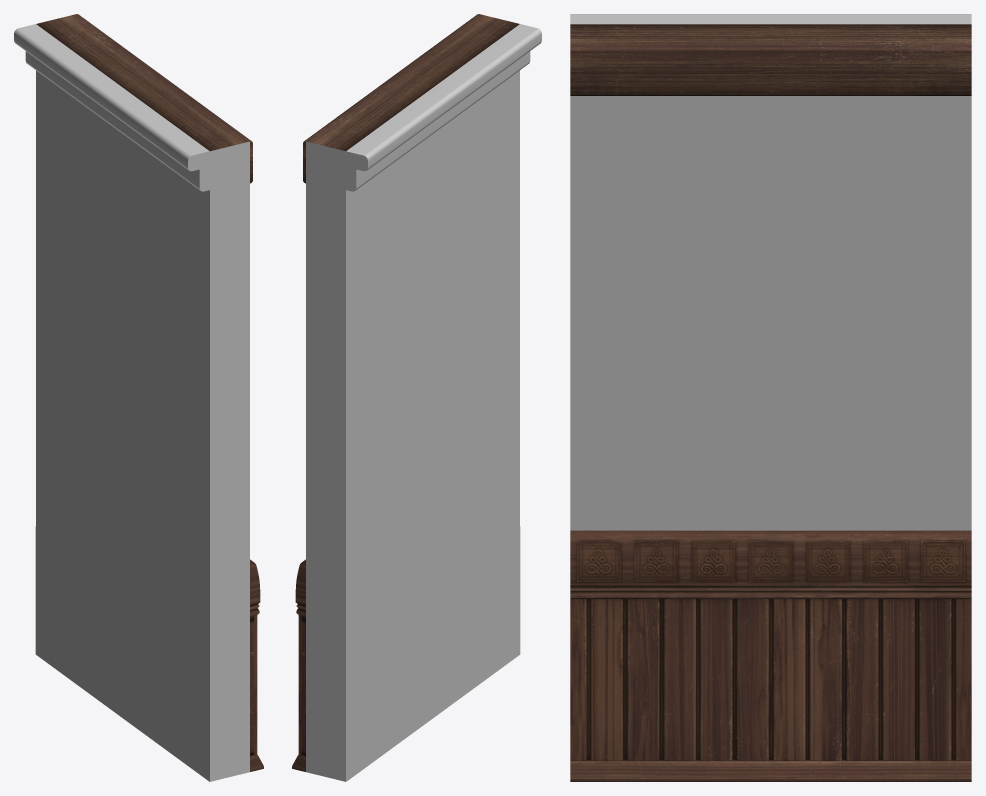
The model's file is Wall1x3.fbx.
3 views of the same model, side by side, from view 1: azimuth 30°, elevation 25°; view 2: azimuth 150°, elevation 25°; view 3: azimuth 270°, elevation 25° (orthographic). The views are drawn at different scales.
Visible parts, largest first — view 1: SM_Vintage_Wall_Module_1_5x3_FixedMat_LOD0; view 2: SM_Vintage_Wall_Module_1_5x3_FixedMat_LOD0; view 3: SM_Vintage_Wall_Module_1_5x3_FixedMat_LOD0.
Boxes of the visible parts, x1=… form: SM_Vintage_Wall_Module_1_5x3_FixedMat_LOD0: x1=14, y1=14, x2=263, y2=781; SM_Vintage_Wall_Module_1_5x3_FixedMat_LOD0: x1=292, y1=14, x2=541, y2=781; SM_Vintage_Wall_Module_1_5x3_FixedMat_LOD0: x1=570, y1=14, x2=971, y2=781.
Size of the model in its own units: 37.79 by 300 by 150.
